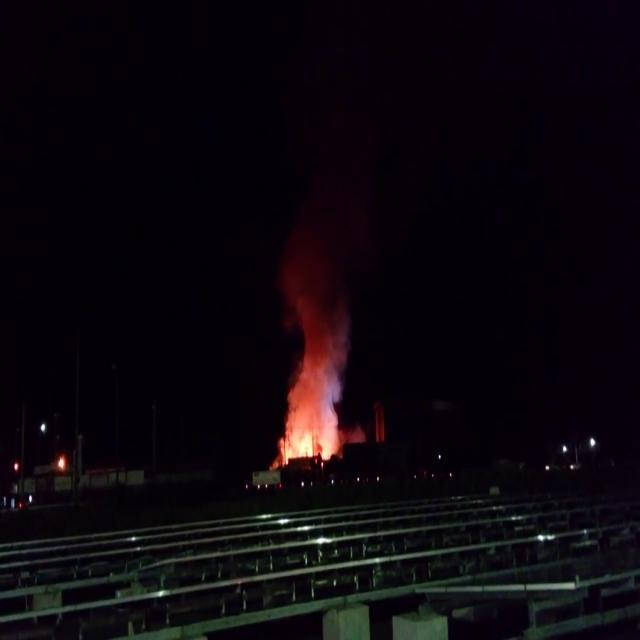Fire: (279, 432, 333, 460)
